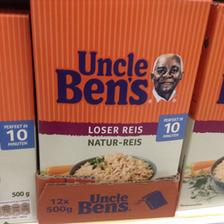Reis: (28, 0, 212, 178)
